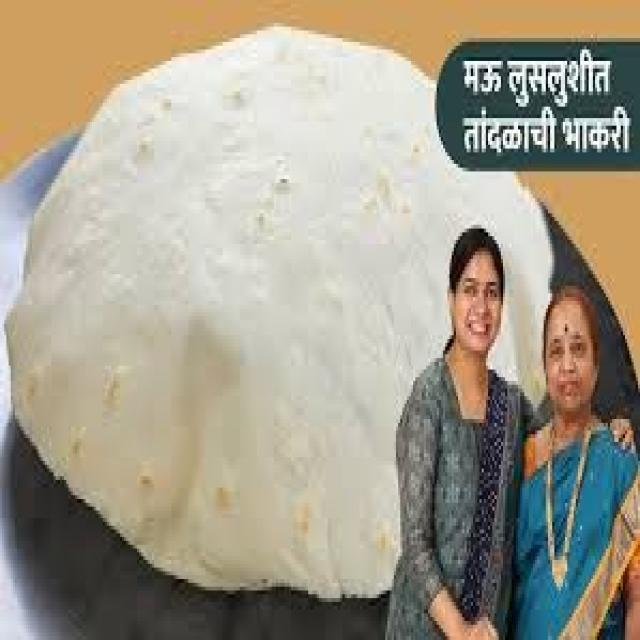RICE BHAKRI: (4, 19, 447, 590)
